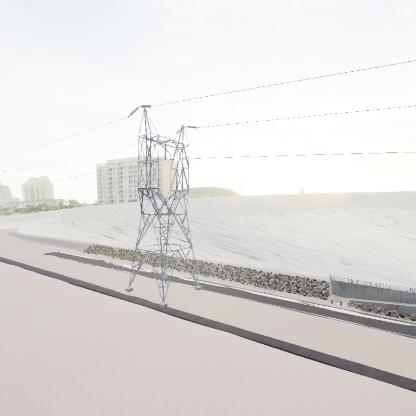tower: (120, 101, 206, 318)
